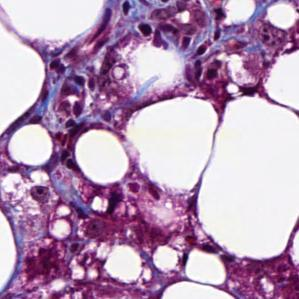inflammation: (57, 70, 90, 123), (186, 42, 228, 82), (134, 19, 177, 50), (102, 188, 129, 216)
